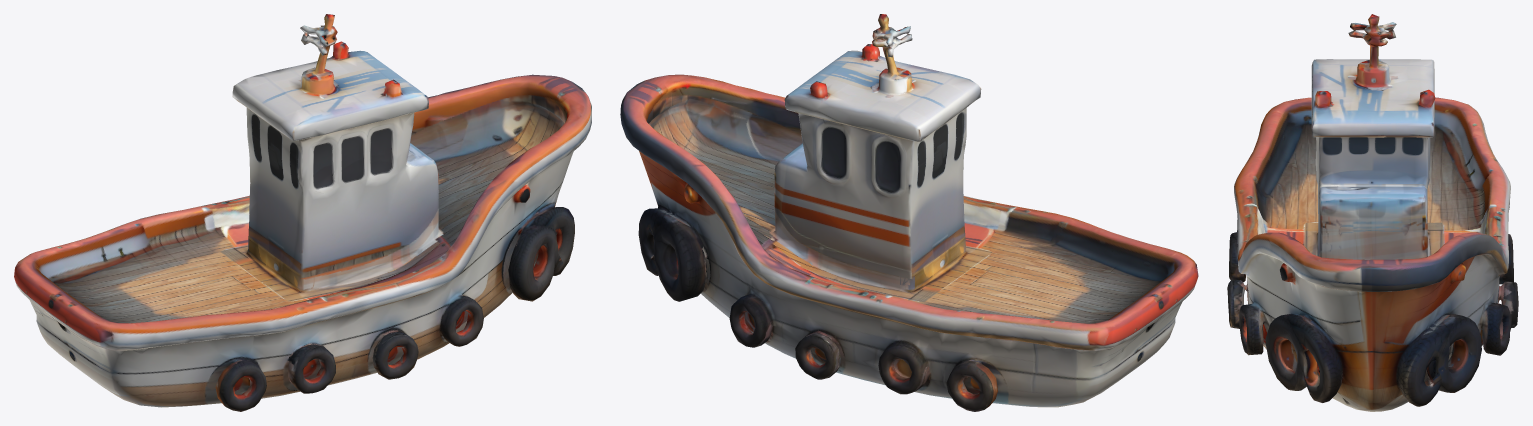
Rendered from Cute_cartoon_tug_boat_1125002001_texture.glb.
3 views of the same model, side by side, from view 1: azimuth 30°, elevation 25°; view 2: azimuth 150°, elevation 25°; view 3: azimuth 270°, elevation 25° (orthographic).
Visible parts, largest first — view 1: Mesh_0; view 2: Mesh_0; view 3: Mesh_0.
Boxes of the visible parts, box(x1,y1,x2,y2) form: Mesh_0: box(14, 14, 591, 411); Mesh_0: box(620, 14, 1198, 411); Mesh_0: box(1227, 14, 1518, 411).
Bounding box in the file's own units: 2 × 1.17 × 0.948.
Materials: 1 (1 with a texture image).
